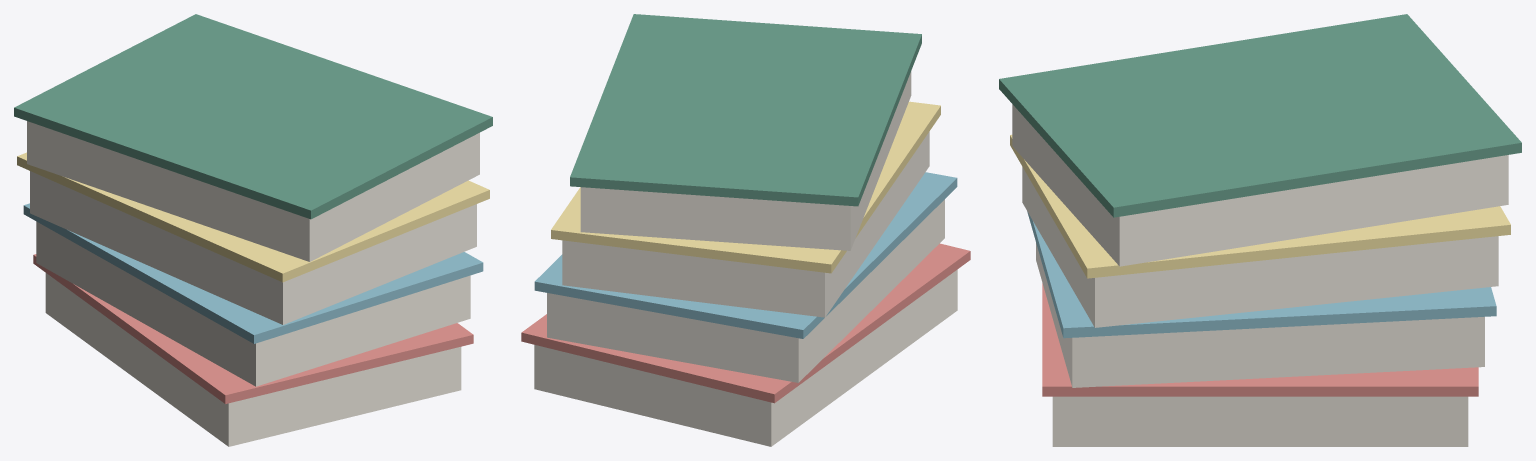
File: book_stack.glb
3 views of the same model, side by side, from view 1: azimuth 30°, elevation 25°; view 2: azimuth 150°, elevation 25°; view 3: azimuth 270°, elevation 25° (orthographic). The views are drawn at different scales.
Parts seen in each view (by area): view 1: book_stack_007, book_stack_006, book_stack_004, book_stack_002, book_stack_000, book_stack_005, book_stack_003, book_stack_001; view 2: book_stack_007, book_stack_000, book_stack_002, book_stack_004, book_stack_006, book_stack_001, book_stack_003, book_stack_005; view 3: book_stack_007, book_stack_006, book_stack_004, book_stack_002, book_stack_000, book_stack_005, book_stack_003, book_stack_001.
Boxes of the visible parts, x1,y1,x2,y2 form: book_stack_007: [14, 14, 492, 219]; book_stack_006: [27, 121, 479, 261]; book_stack_004: [30, 171, 476, 324]; book_stack_002: [36, 221, 470, 386]; book_stack_000: [45, 273, 461, 446]; book_stack_005: [17, 152, 489, 282]; book_stack_003: [23, 203, 483, 343]; book_stack_001: [33, 254, 473, 403]; book_stack_007: [570, 14, 921, 206]; book_stack_000: [534, 269, 957, 446]; book_stack_002: [547, 199, 944, 382]; book_stack_004: [562, 131, 929, 317]; book_stack_006: [580, 71, 911, 250]; book_stack_001: [521, 243, 970, 403]; book_stack_003: [534, 172, 957, 338]; book_stack_005: [551, 101, 940, 273]; book_stack_007: [999, 14, 1521, 217]; book_stack_006: [1012, 104, 1508, 266]; book_stack_004: [1022, 167, 1498, 327]; book_stack_002: [1036, 243, 1484, 387]; book_stack_000: [1052, 396, 1468, 446]; book_stack_005: [1010, 134, 1510, 278]; book_stack_003: [1027, 211, 1496, 338]; book_stack_001: [1042, 283, 1478, 396].
Bounding box in the file's own units: 0.3309 × 0.2165 × 0.3776.
